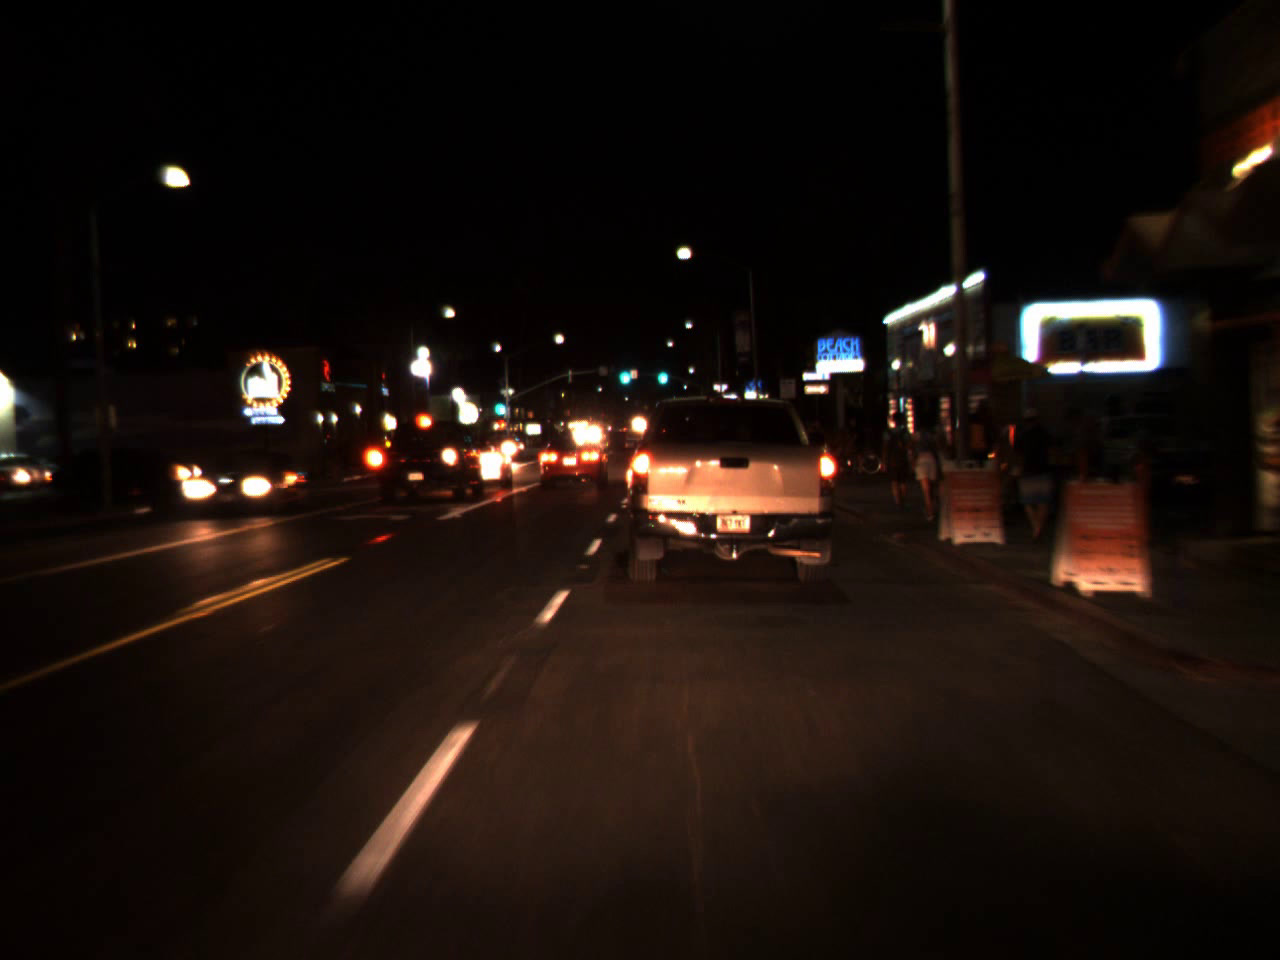go: (615, 354, 633, 390), (653, 356, 669, 389), (492, 387, 504, 419)
